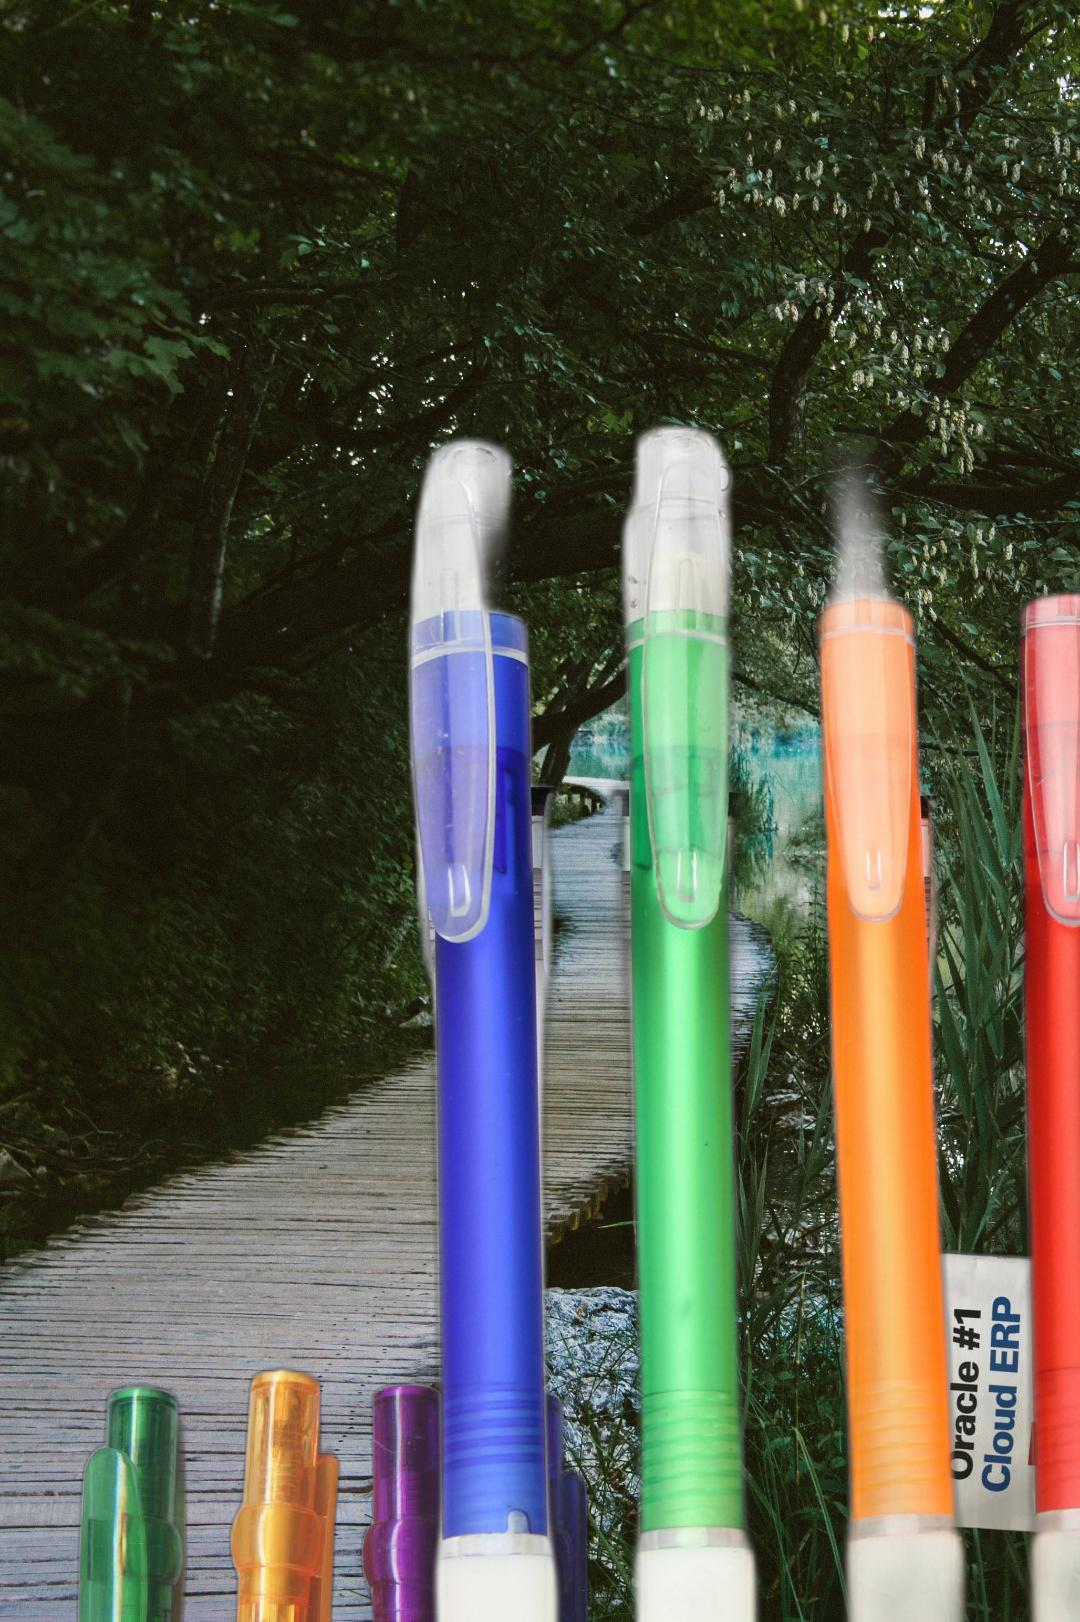paper: (915, 1247, 1080, 1563)
penholder: (377, 329, 1080, 1622), (57, 1359, 749, 1622)
